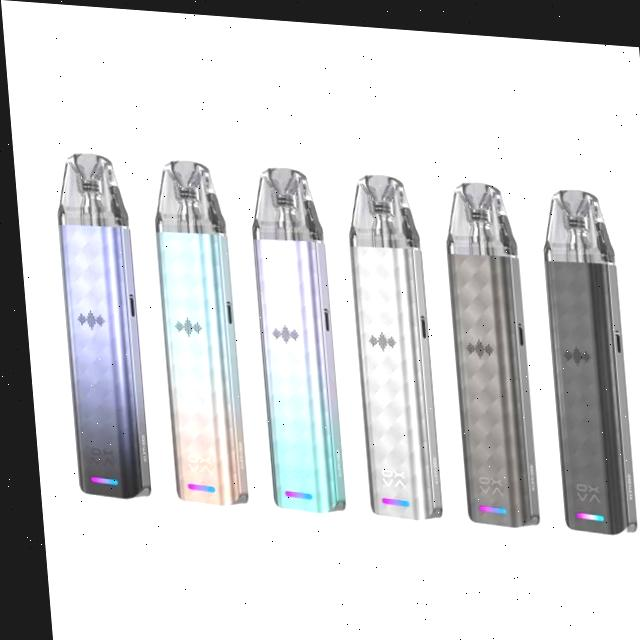vape: (49, 149, 146, 502), (145, 154, 242, 506), (437, 171, 534, 523), (243, 160, 340, 511), (339, 166, 436, 517), (535, 177, 632, 528)
